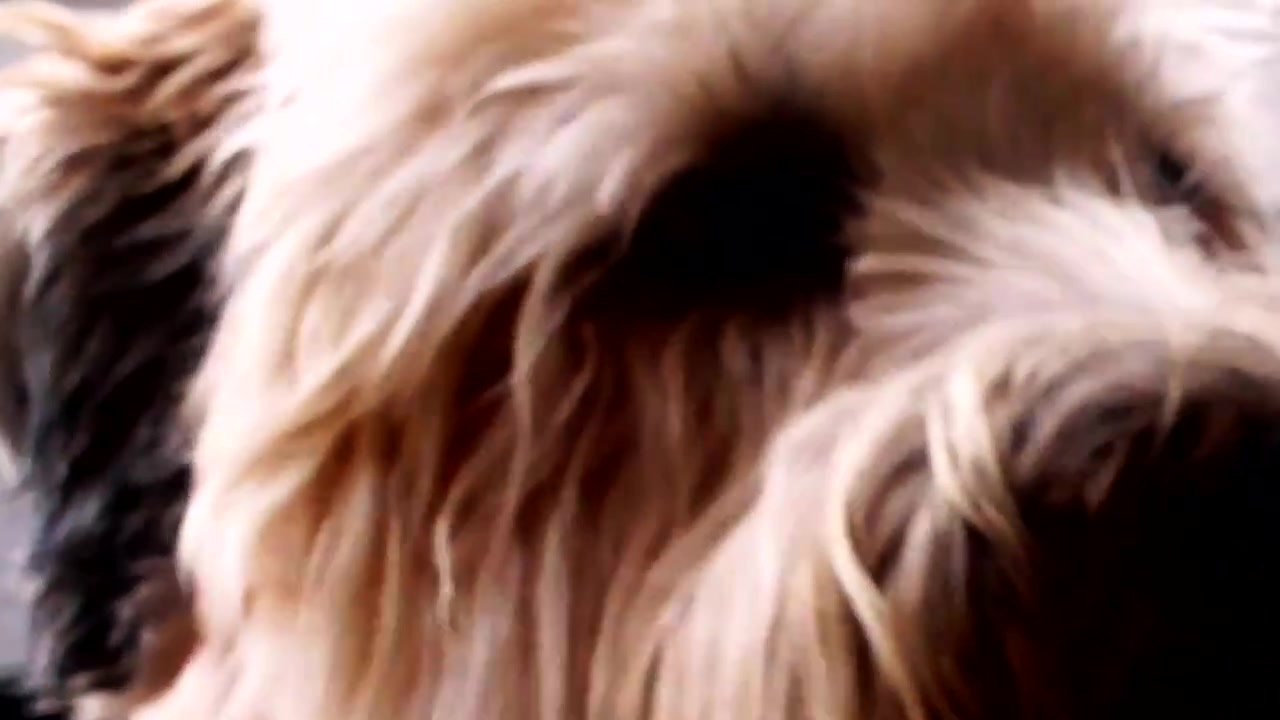dog: (1, 1, 1280, 720)
